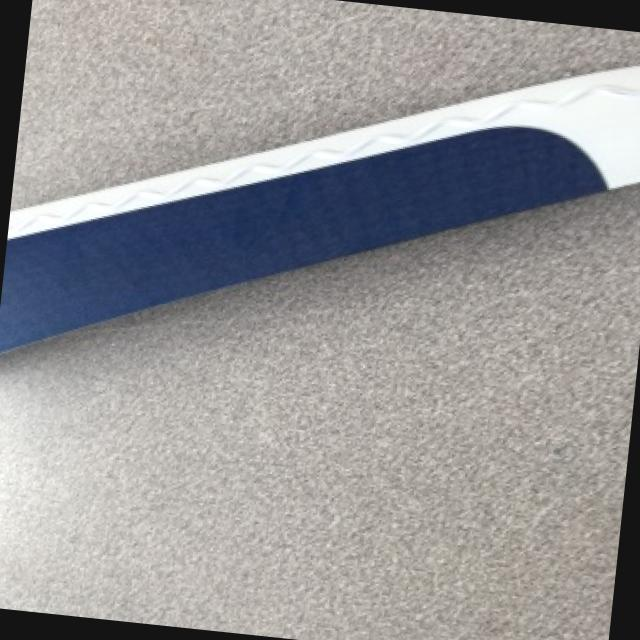healthy: (0, 184, 640, 640), (0, 67, 640, 344)
